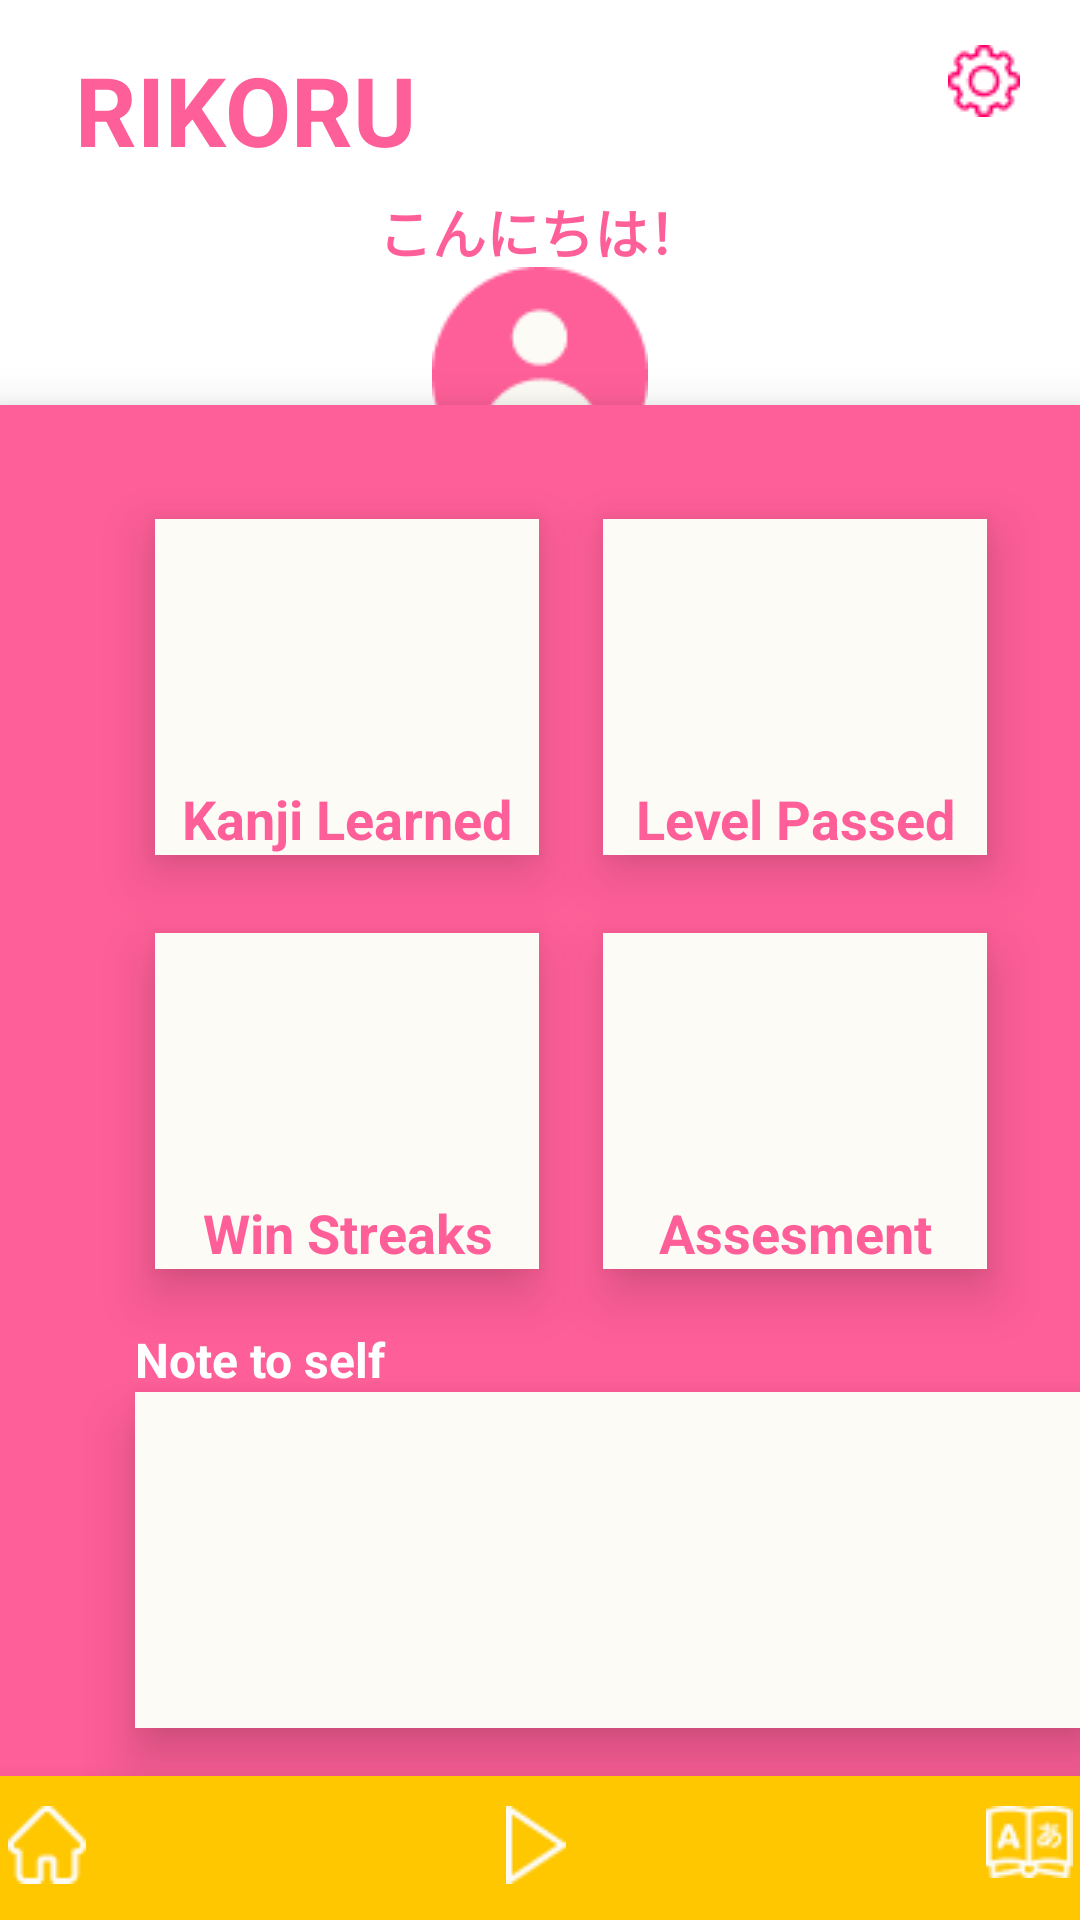

Named icons in this screenshot (1080 × 1920) and their centers, (x=x, y=y):
playbutton: (x=536, y=1845)
setting: (x=984, y=81)
